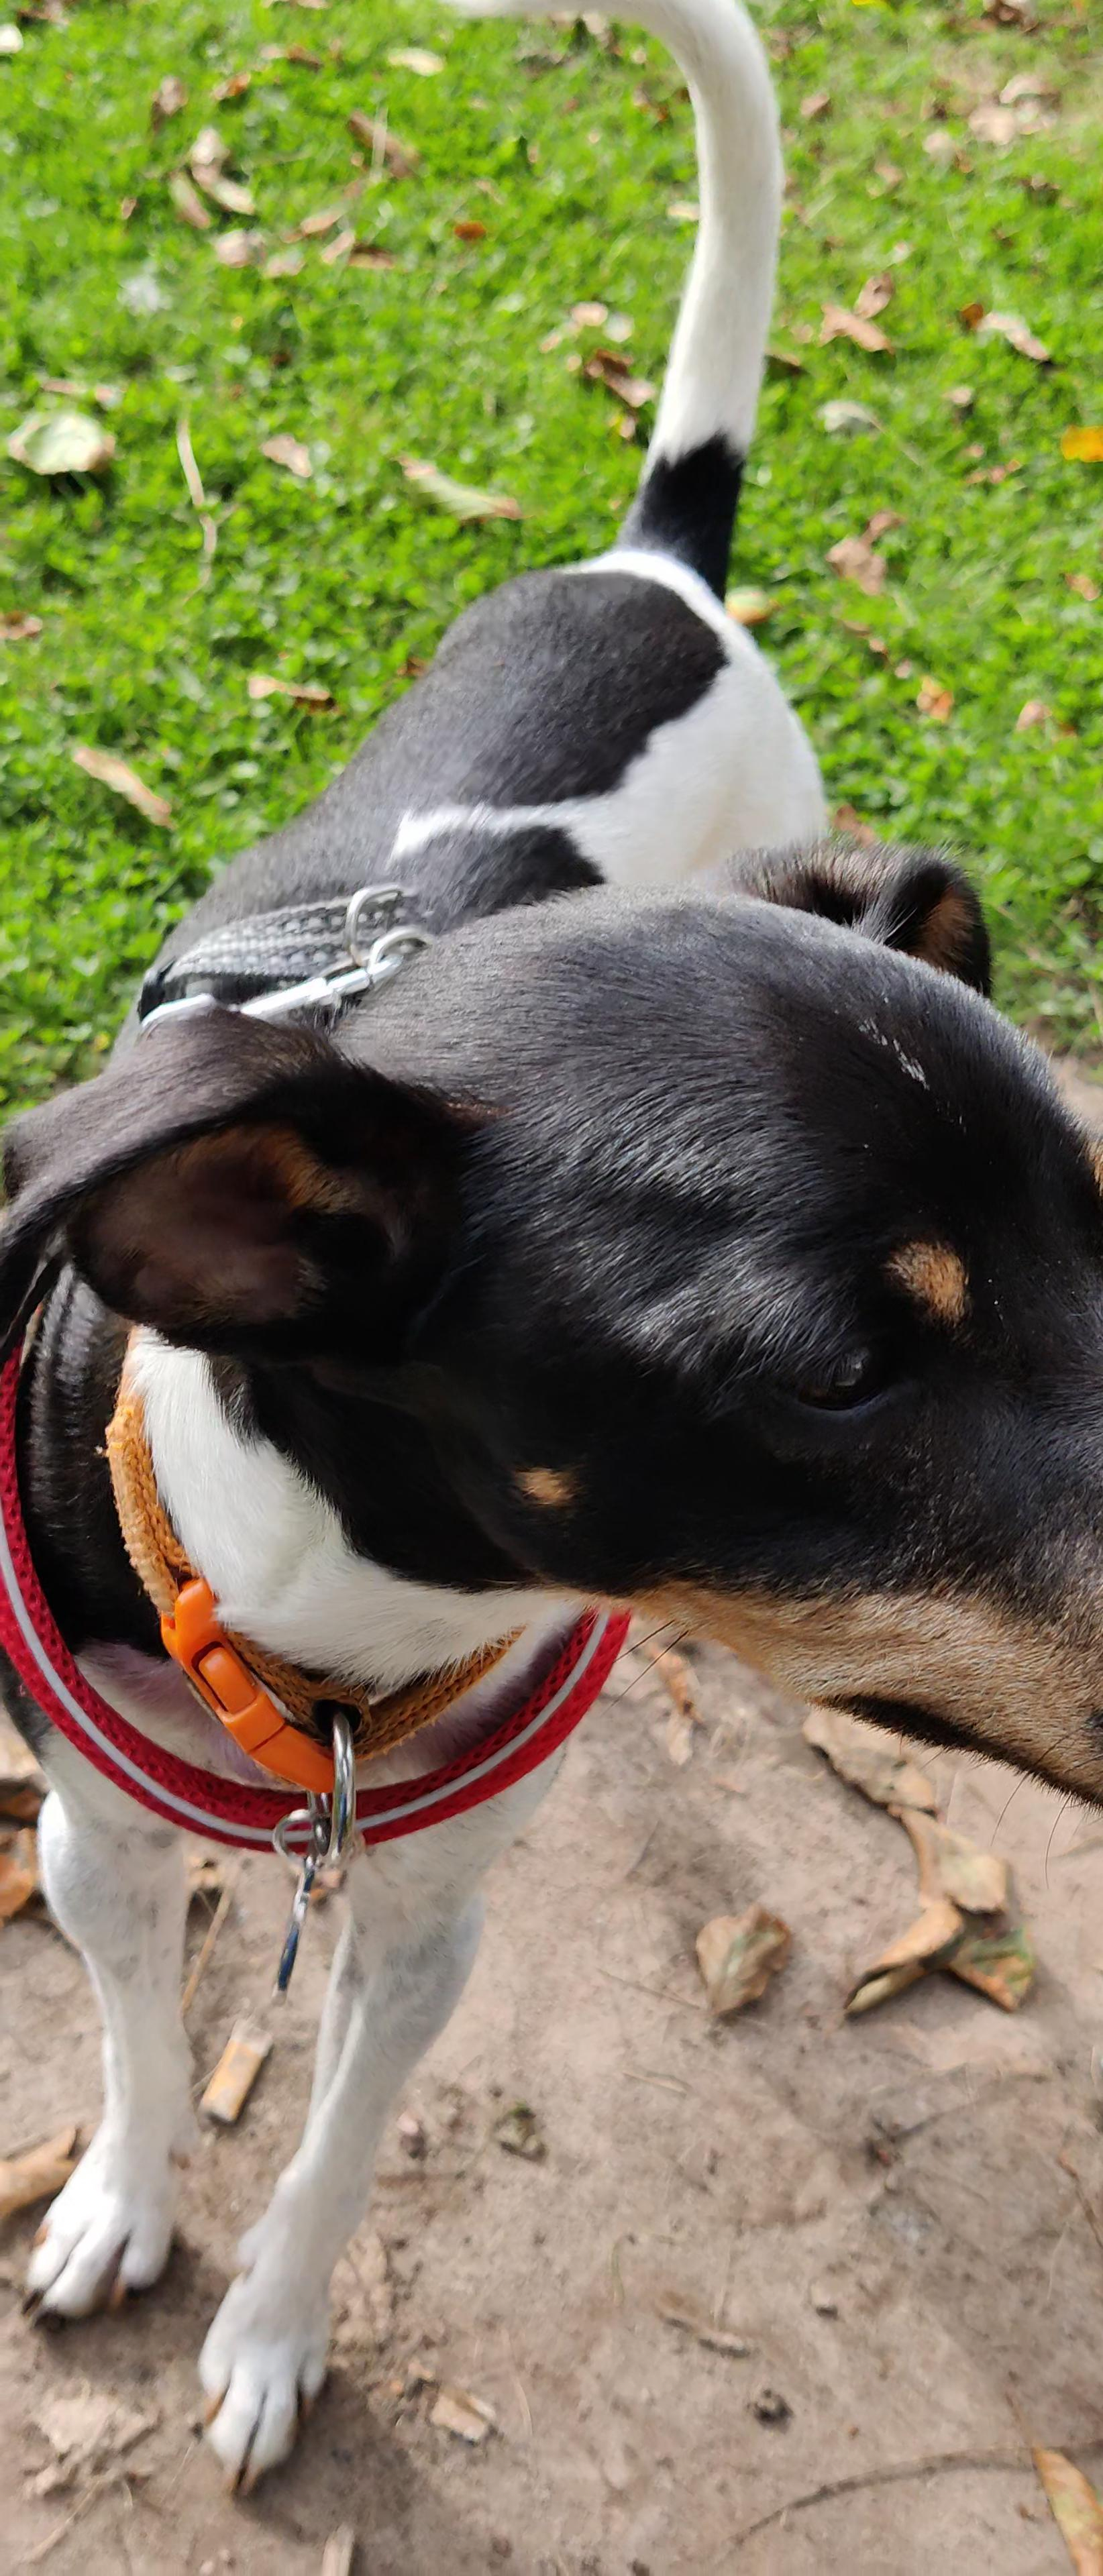Dog: (0, 0, 1103, 2458)
